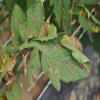Tomato Septoria leaf spot: (34, 31, 91, 92), (19, 1, 46, 43), (26, 46, 42, 87)
